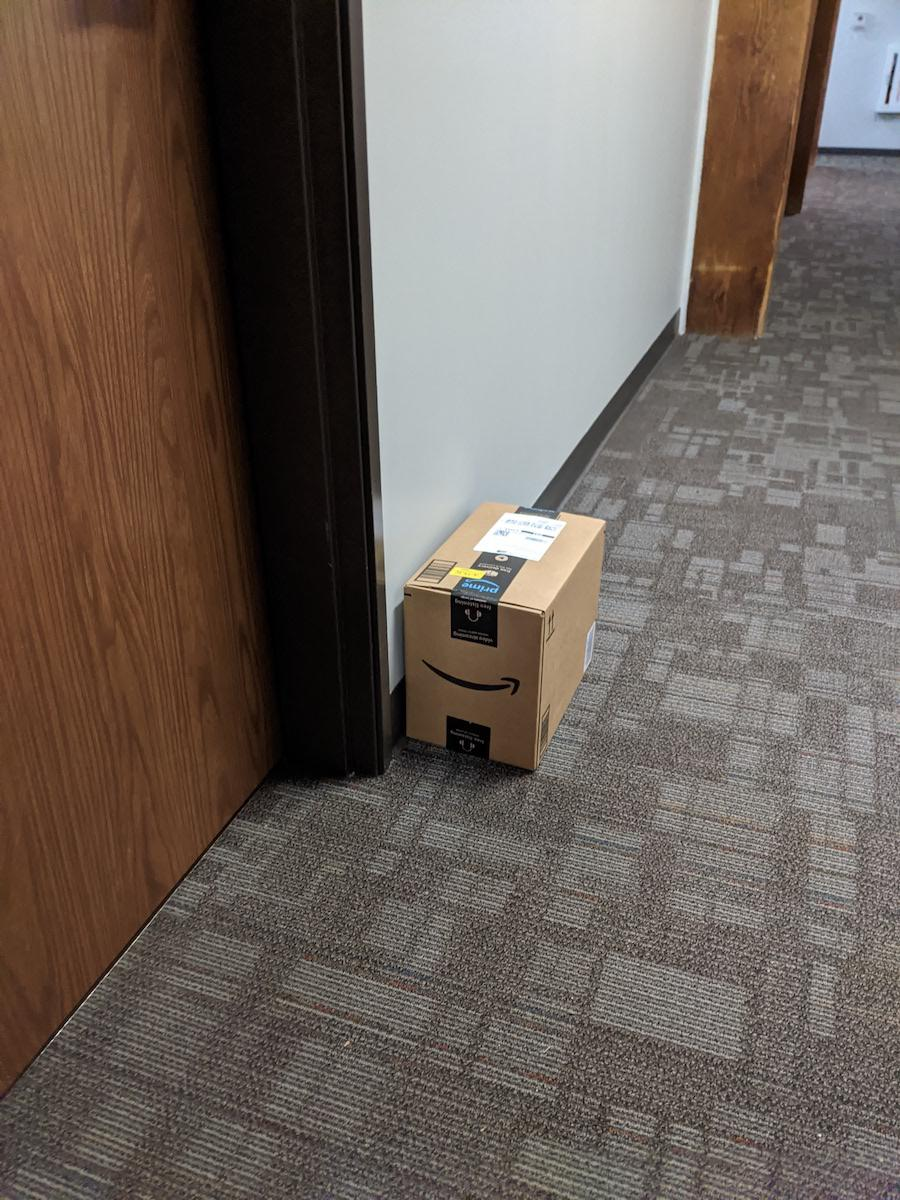package: (393, 491, 625, 774)
